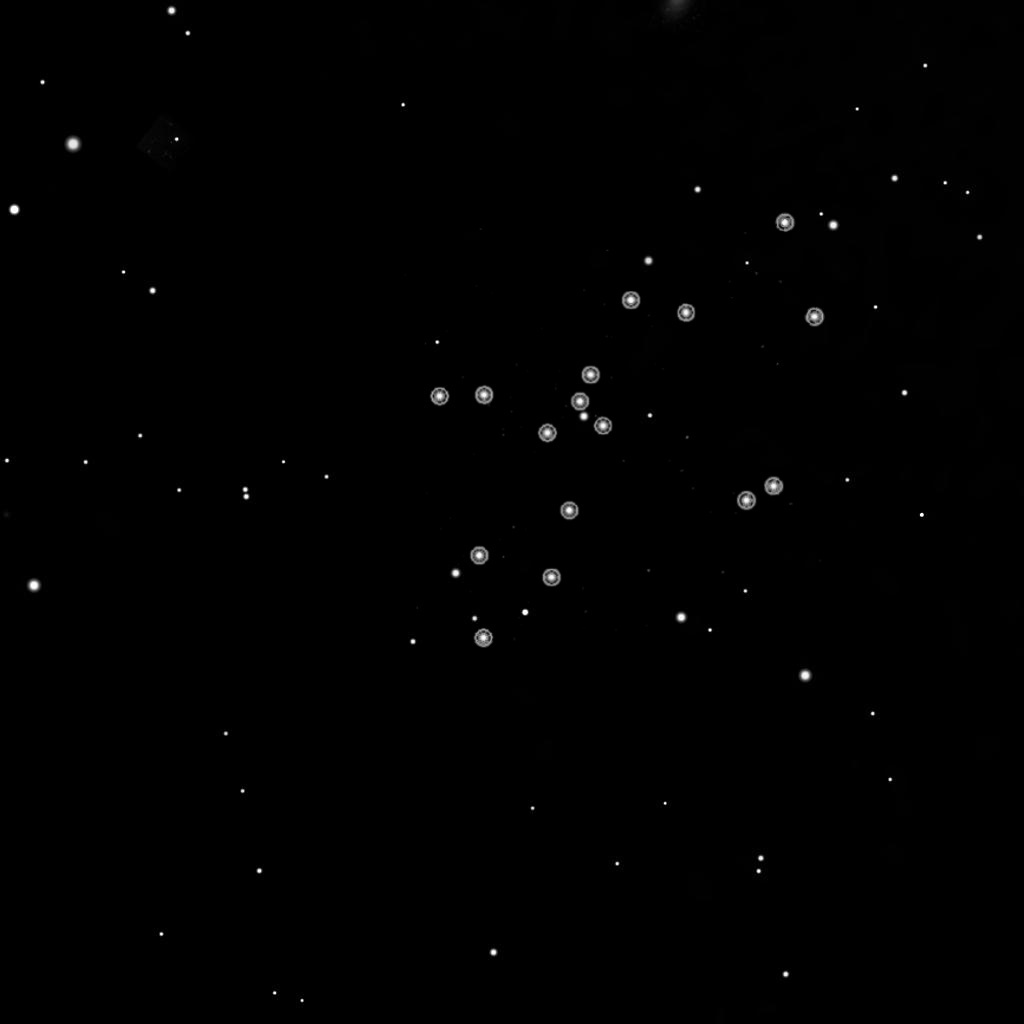canis_major: (530, 283, 700, 451)
